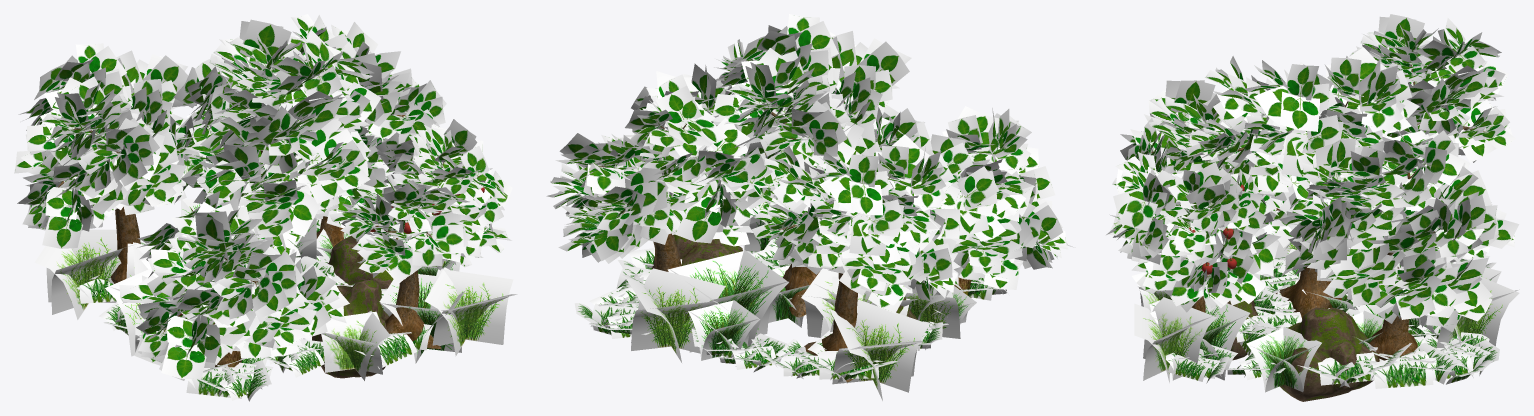
Rendered from sb_obj_outdoor010_Landmark_Forest.fbx.
3 views of the same model, side by side, from view 1: azimuth 30°, elevation 25°; view 2: azimuth 150°, elevation 25°; view 3: azimuth 270°, elevation 25° (orthographic). The views are drawn at different scales.
Parts seen in each view (by area): view 1: sb_obj_outdoor010_Landmark_Forest02, sb_obj_outdoor010_Landmark_Forest01; view 2: sb_obj_outdoor010_Landmark_Forest02, sb_obj_outdoor010_Landmark_Forest01; view 3: sb_obj_outdoor010_Landmark_Forest02, sb_obj_outdoor010_Landmark_Forest01.
Part boxes in pixels (bbox=[...]): sb_obj_outdoor010_Landmark_Forest02: bbox=[14, 14, 517, 401]; sb_obj_outdoor010_Landmark_Forest01: bbox=[58, 60, 484, 378]; sb_obj_outdoor010_Landmark_Forest02: bbox=[546, 14, 1075, 400]; sb_obj_outdoor010_Landmark_Forest01: bbox=[599, 50, 971, 382]; sb_obj_outdoor010_Landmark_Forest02: bbox=[1106, 14, 1519, 392]; sb_obj_outdoor010_Landmark_Forest01: bbox=[1151, 54, 1484, 401].
Size of the model in its own units: 2.33 by 1.65 by 2.06.
